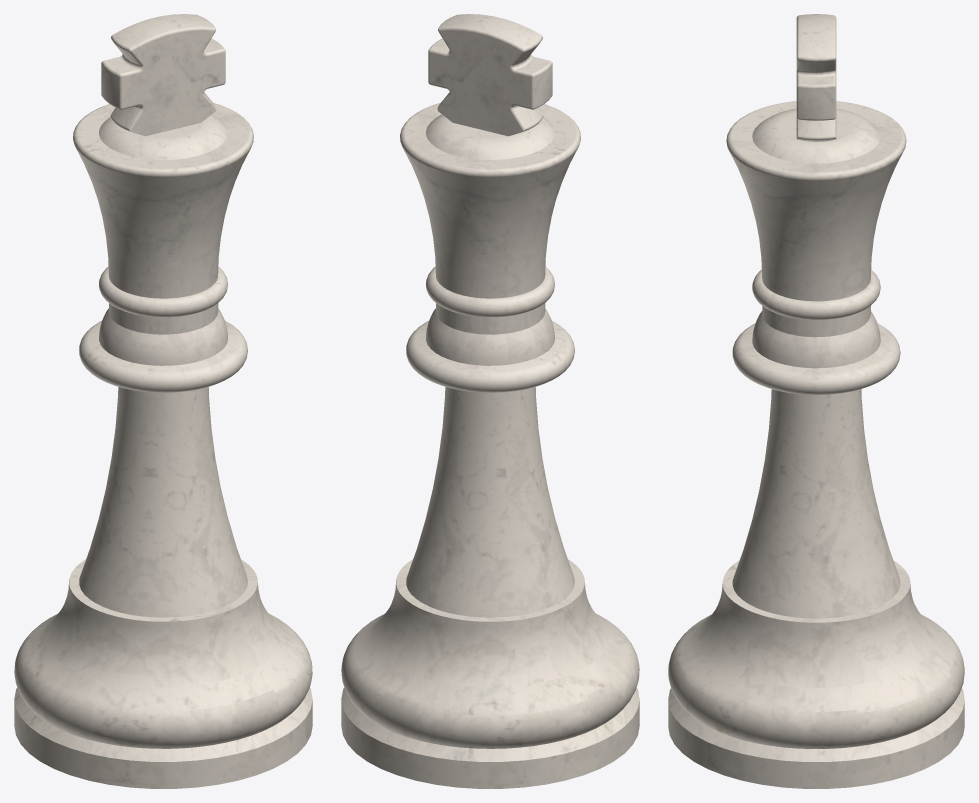
The model's file is White-King.glb.
3 renders of one model, left to right at view 1: azimuth 30°, elevation 25°; view 2: azimuth 150°, elevation 25°; view 3: azimuth 270°, elevation 25°, orthographic.
Parts seen in each view (by area): view 1: ASSET_Joined; view 2: ASSET_Joined; view 3: ASSET_Joined.
Boxes of the visible parts, x1=… form: ASSET_Joined: x1=14, y1=14, x2=312, y2=788; ASSET_Joined: x1=341, y1=14, x2=639, y2=788; ASSET_Joined: x1=668, y1=14, x2=964, y2=788.
Size of the model in its own units: 23.07 by 60 by 23.08.
Materials: 1 (1 with a texture image).
